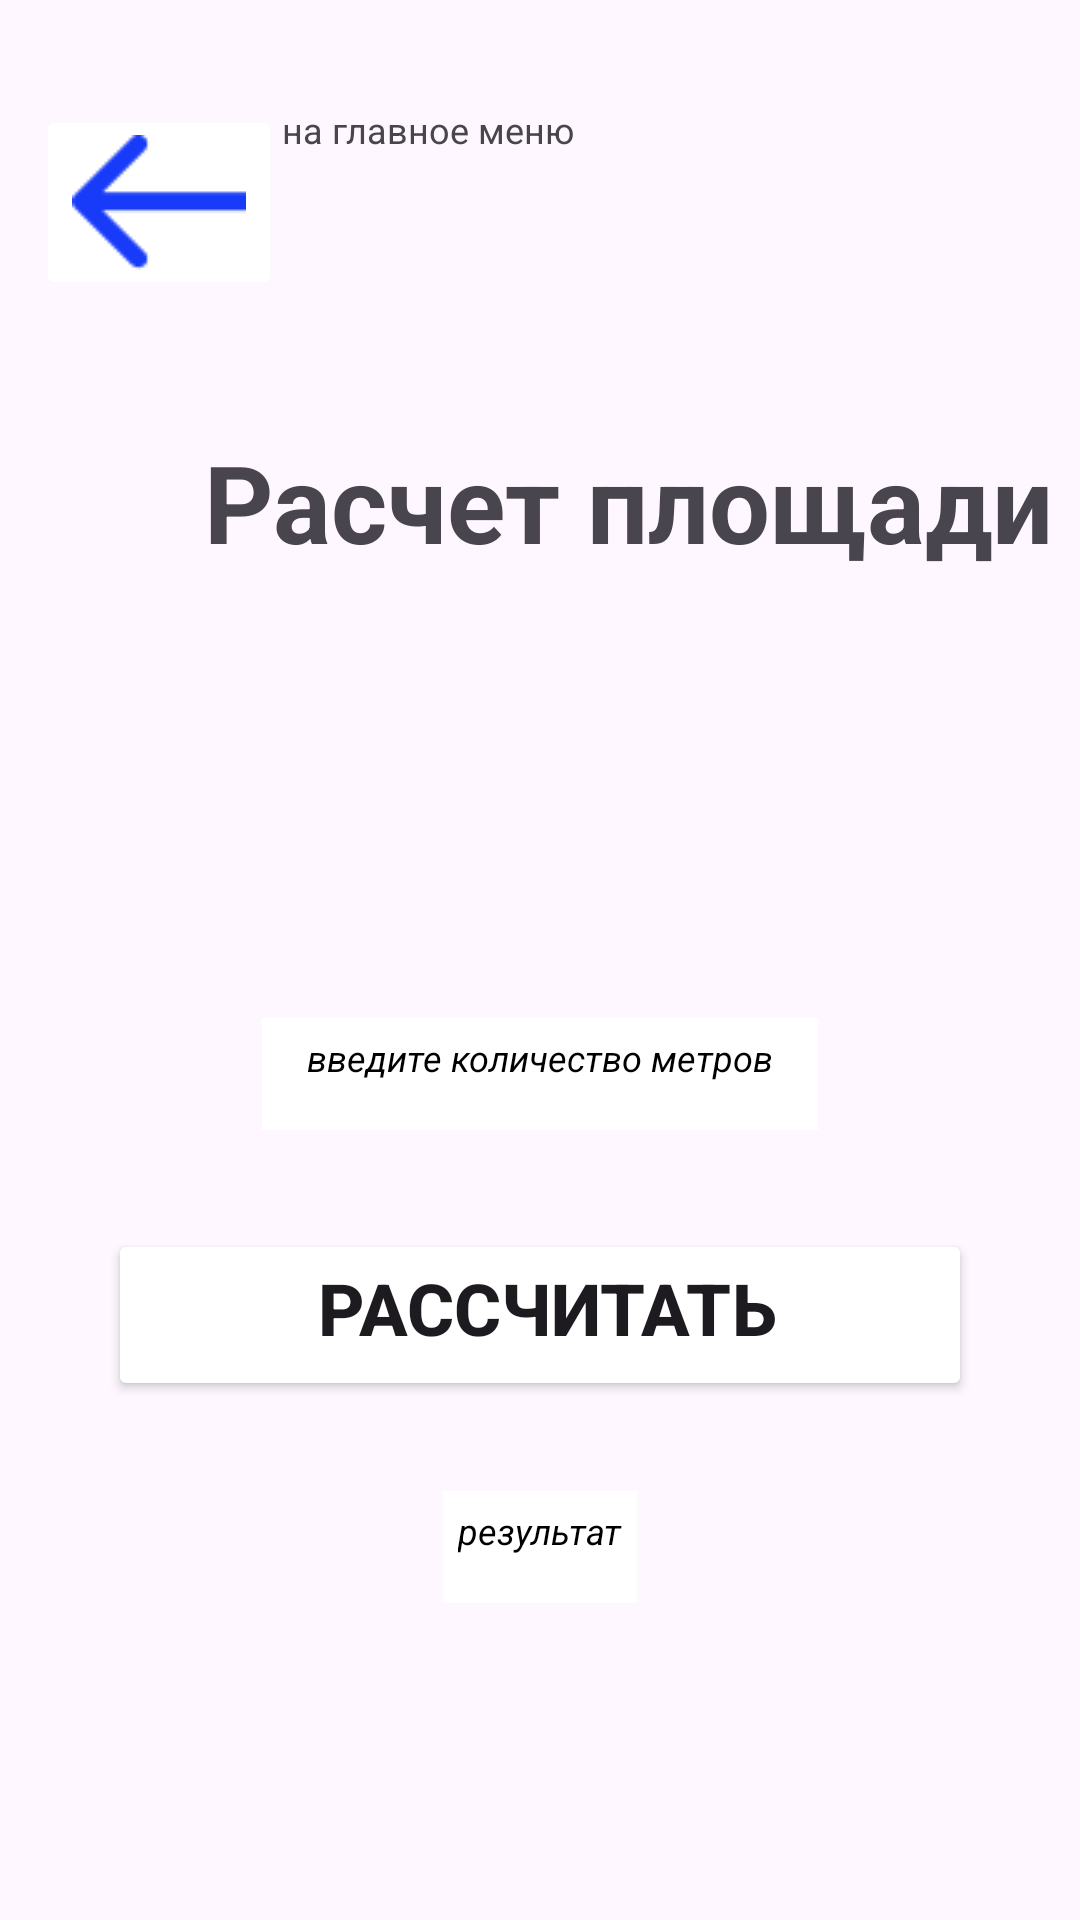

Named icons in this screenshot (1080x1920) and their centers, point (x, y):
arrow: point (159, 202)
